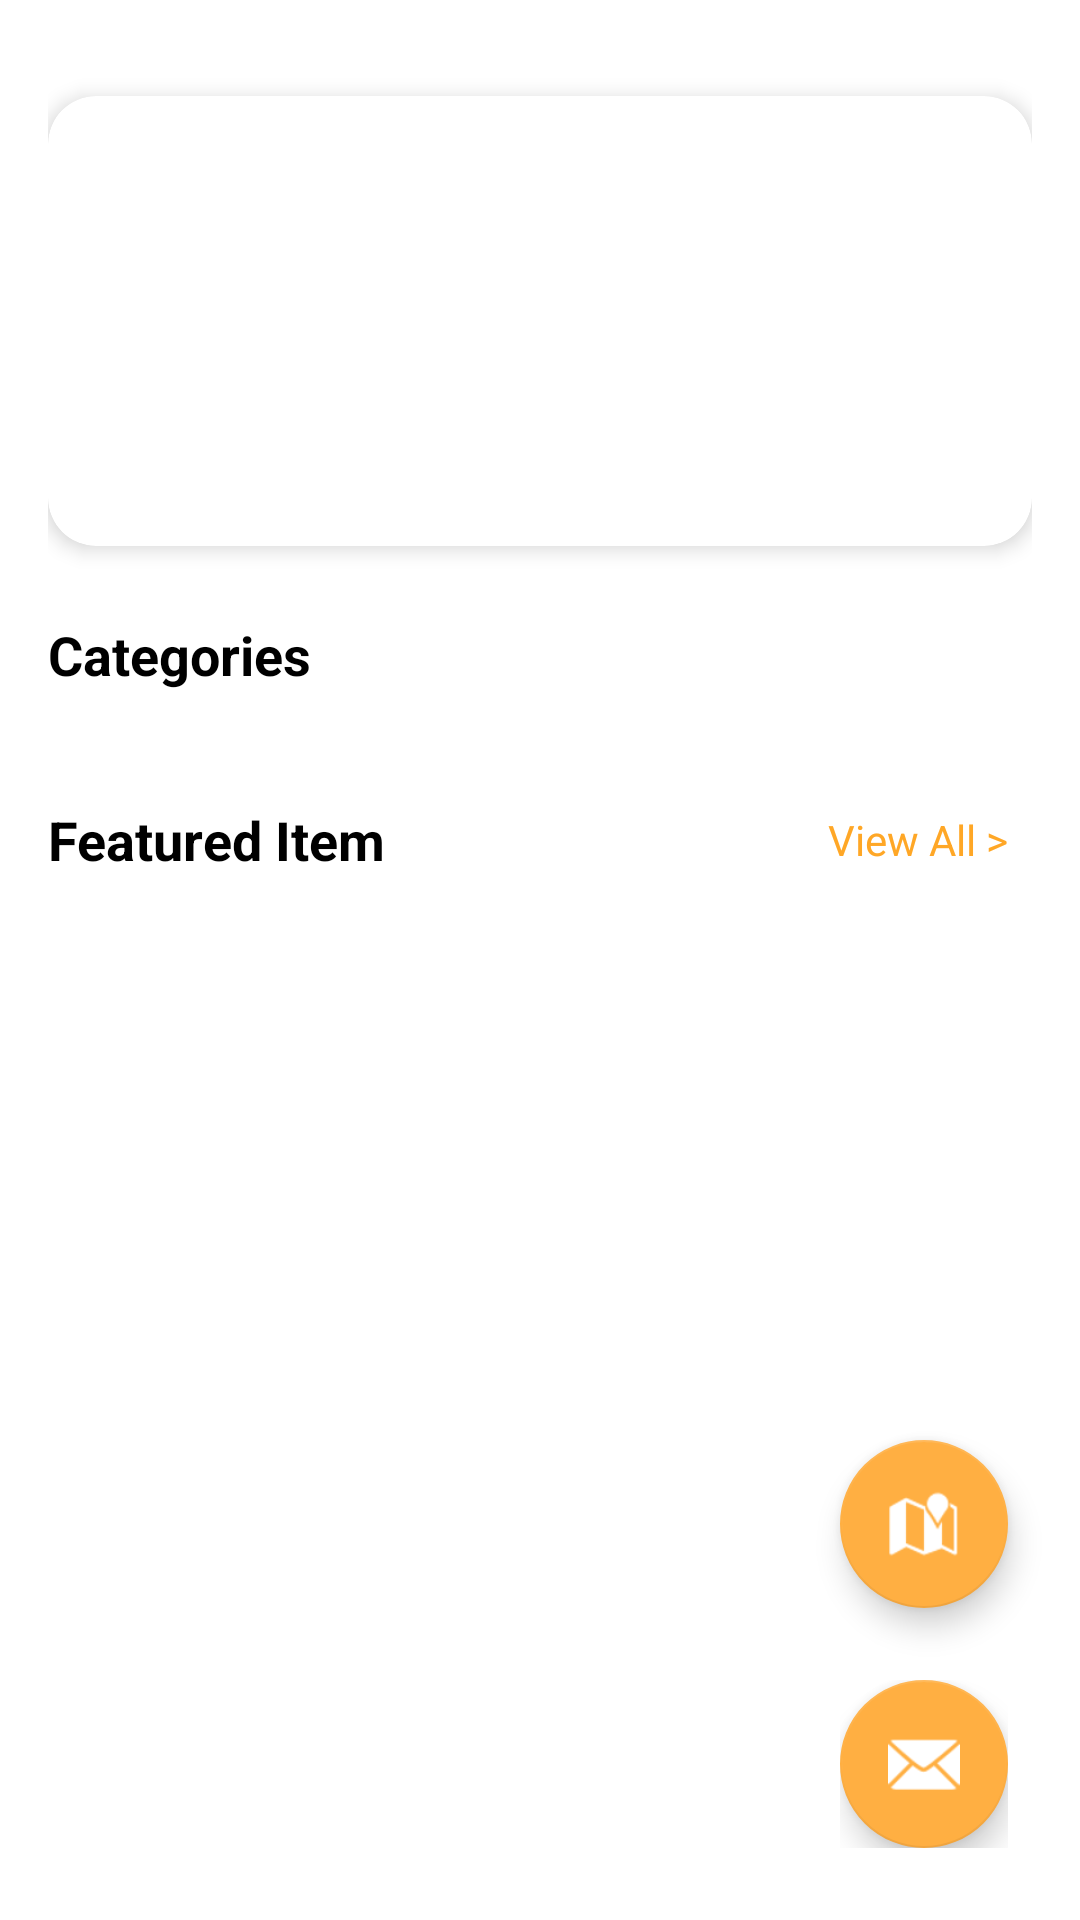

Locate icon controls on the screen. Image size 1080x1920, boxes as (x1, y1, x2, y2).
email: (840, 1680, 1008, 1848)
map: (840, 1440, 1008, 1608)
